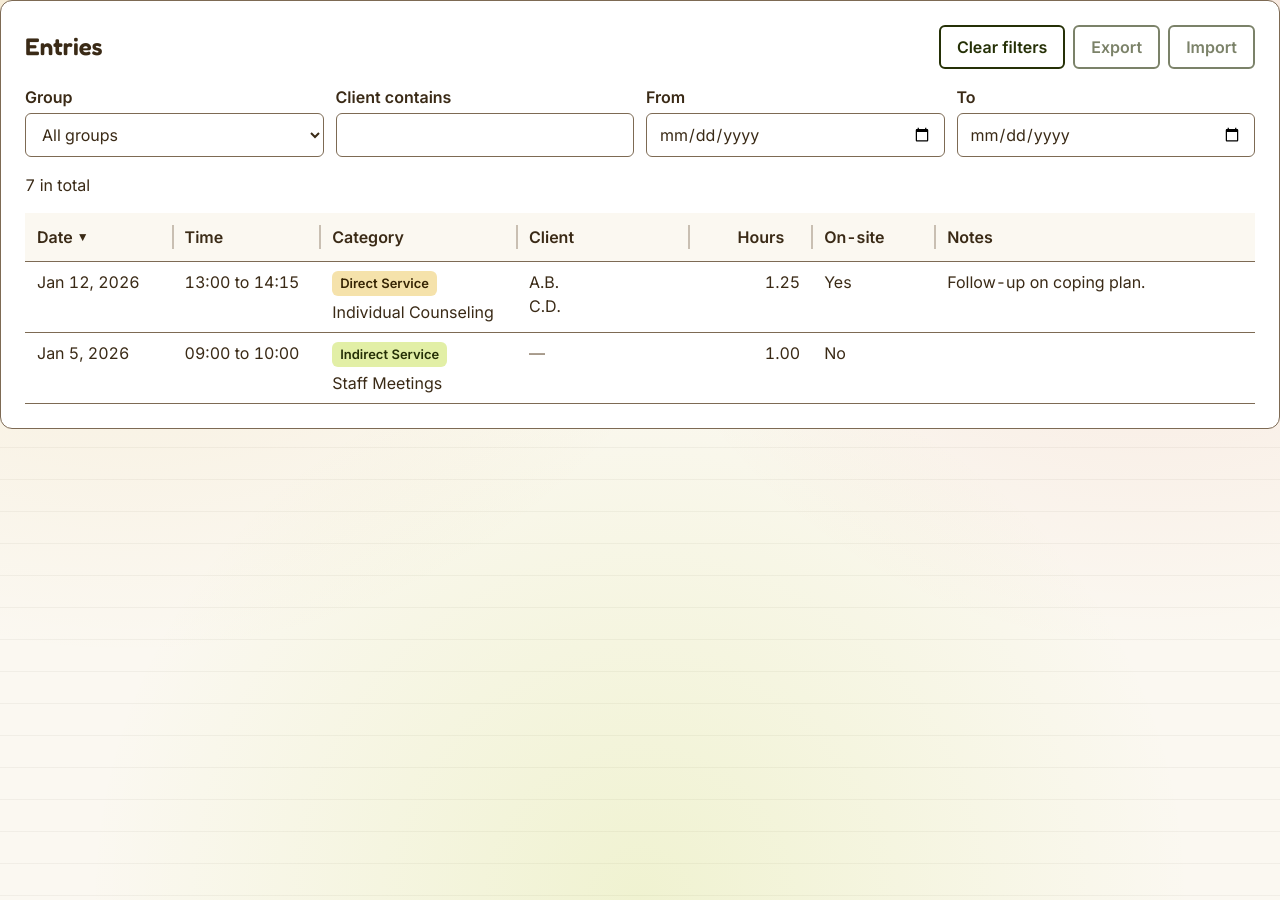
it: results › the count says how many match once a filter is on
Expected: the text "7 in total" is shown, [25,175,90,195]
Select "Direct Service" in the dropdown labelled "Group": (174, 135) [25,113,324,157]
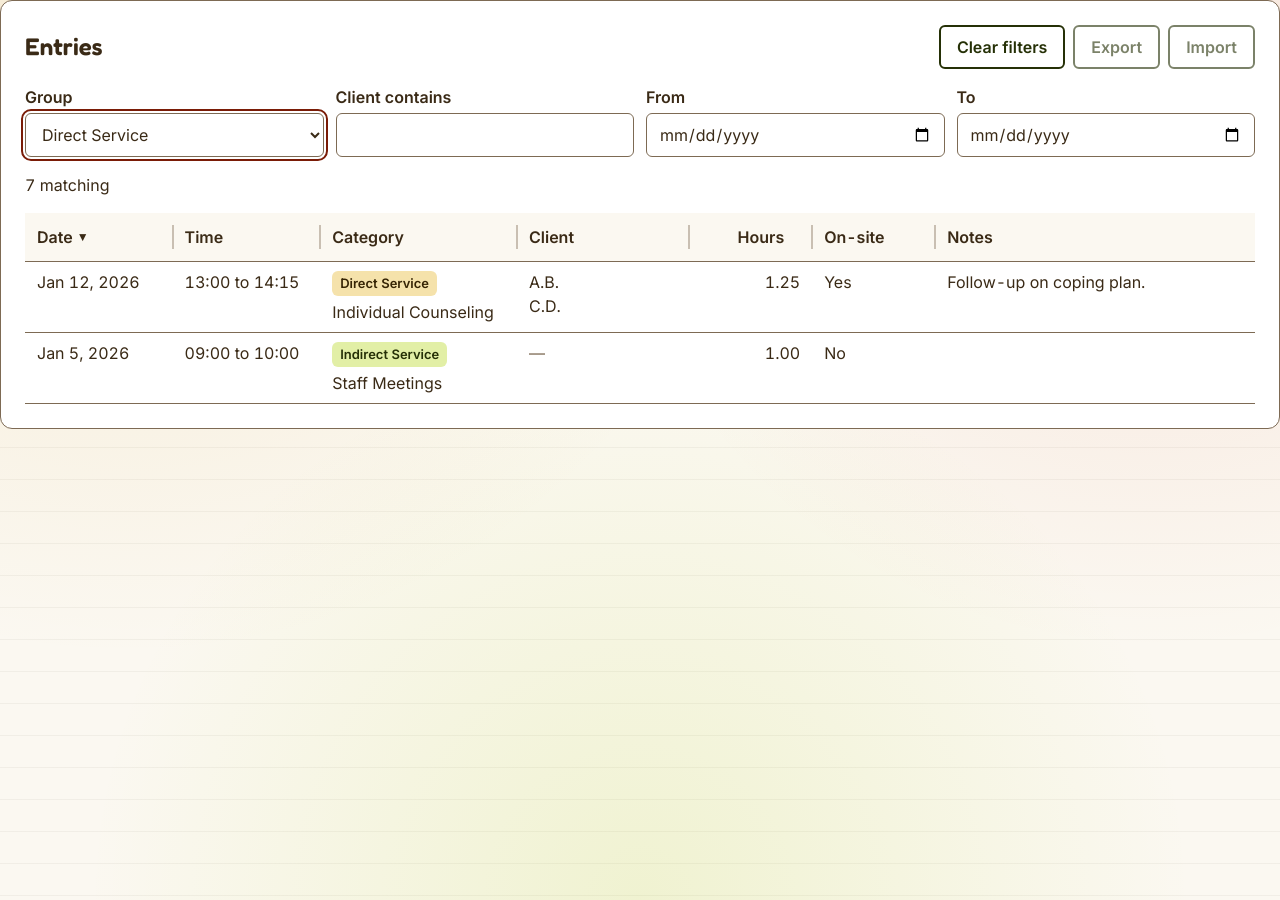
Result: the text "7 matching" is shown at [25,175,110,195]
